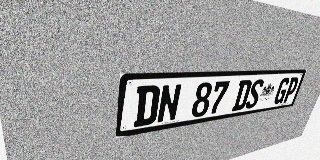7: (207, 81, 230, 115)
8: (190, 82, 214, 118)
D: (133, 85, 161, 127), (231, 80, 253, 111)
G: (272, 77, 291, 105)
N: (156, 84, 182, 124)
P: (282, 77, 300, 103)
S: (244, 79, 265, 109)
